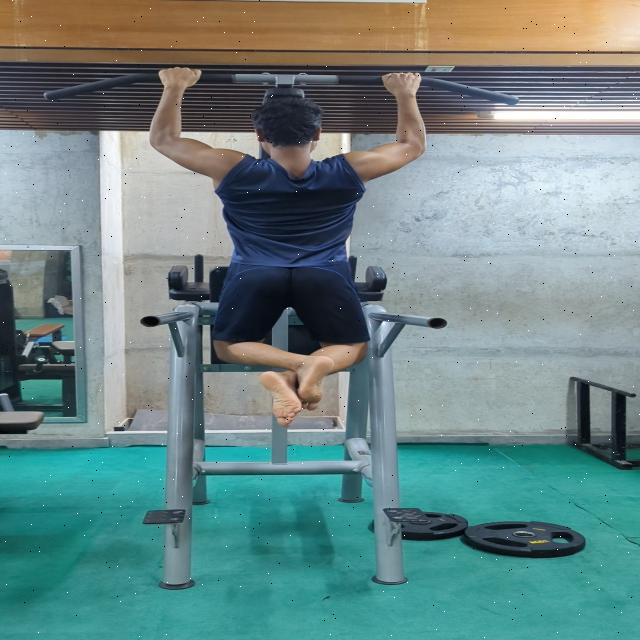Normal_PullUps: (143, 68, 437, 428)
